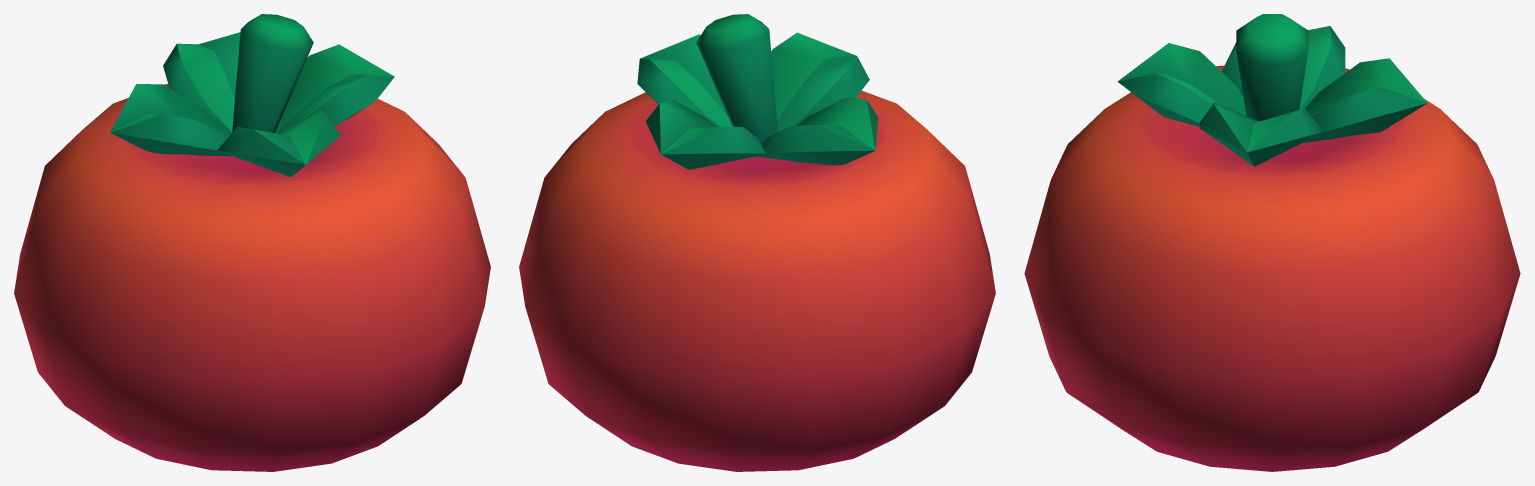
The model's file is kay-food_ingredient_tomato.glb.
The picture shows the model from 3 angles, left to right: view 1: azimuth 30°, elevation 25°; view 2: azimuth 150°, elevation 25°; view 3: azimuth 270°, elevation 25°; orthographic projection. The views are drawn at different scales.
Visible parts, largest first — view 1: food_ingredient_tomato; view 2: food_ingredient_tomato; view 3: food_ingredient_tomato.
Boxes of the visible parts, x1,y1,x2,y2 form: food_ingredient_tomato: (14, 14, 490, 471); food_ingredient_tomato: (519, 14, 995, 471); food_ingredient_tomato: (1024, 14, 1520, 471).
Size of the model in its own units: 0.22 by 0.2053 by 0.22.
Materials: 1 (1 with a texture image).
